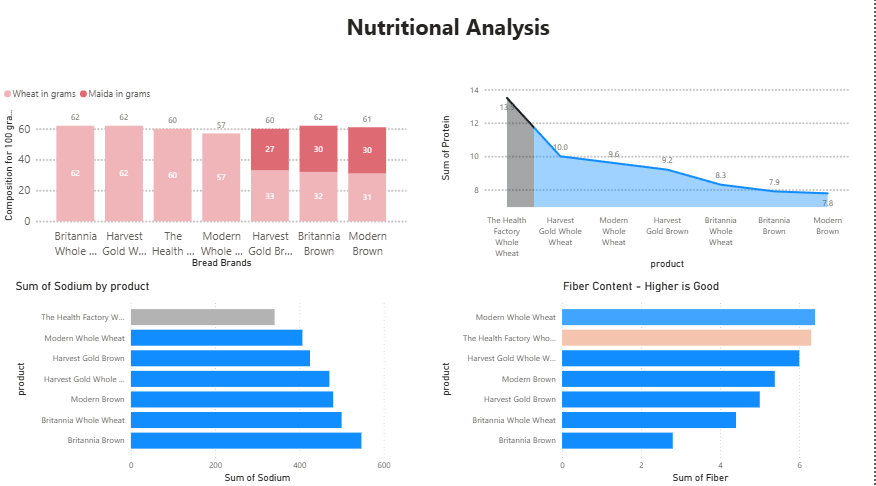

What the dashboard file says about the page in this screenshot:
{"tool":"powerbi","page":{"name":"Page 1","canvas":[1280,720],"ordinal":0},"visuals":[{"type":"columnChart","title":"Wheat and Maida composition per 100 Grams","fields":{"Category":["Wheat Bread.product"],"Y":["Sum(Wheat Bread.Wheat)","Sum(Wheat Bread.Maida)"]},"box":[0,106.8,600,300],"z":0},{"type":"areaChart","fields":{"Category":["Wheat Bread.product"],"Y":["Sum(Wheat Bread.Protein)"]},"box":[639.5,106.8,613.2,300],"z":1000},{"type":"clusteredBarChart","fields":{"Category":["Wheat Bread.product"],"Y":["Sum(Wheat Bread.Sodium)"]},"box":[17.6,417.1,559,302.9],"z":2000},{"type":"clusteredBarChart","title":"Fiber Content - Higher is Good ","fields":{"Category":["Wheat Bread.product"],"Y":["Sum(Wheat Bread.Fiber)"]},"box":[639.5,417.1,597.1,302.9],"z":3000},{"type":"textbox","box":[99.5,20.5,1112.2,115.6],"z":3001}]}

Visuals, with their boxes in screenshot pixels (x1, y1, x2, y2), scaled from the page's 1280x720 canvas onto the 876x486 screenshot:
"Wheat and Maida composition per 100 Grams" columnChart: x1=0, y1=72, x2=411, y2=275
areaChart - Wheat Bread.product x Sum(Wheat Bread.Protein): x1=438, y1=72, x2=857, y2=275
clusteredBarChart - Wheat Bread.product x Sum(Wheat Bread.Sodium): x1=12, y1=282, x2=395, y2=485
"Fiber Content - Higher is Good " clusteredBarChart: x1=438, y1=282, x2=846, y2=485
textbox: x1=68, y1=14, x2=829, y2=92
